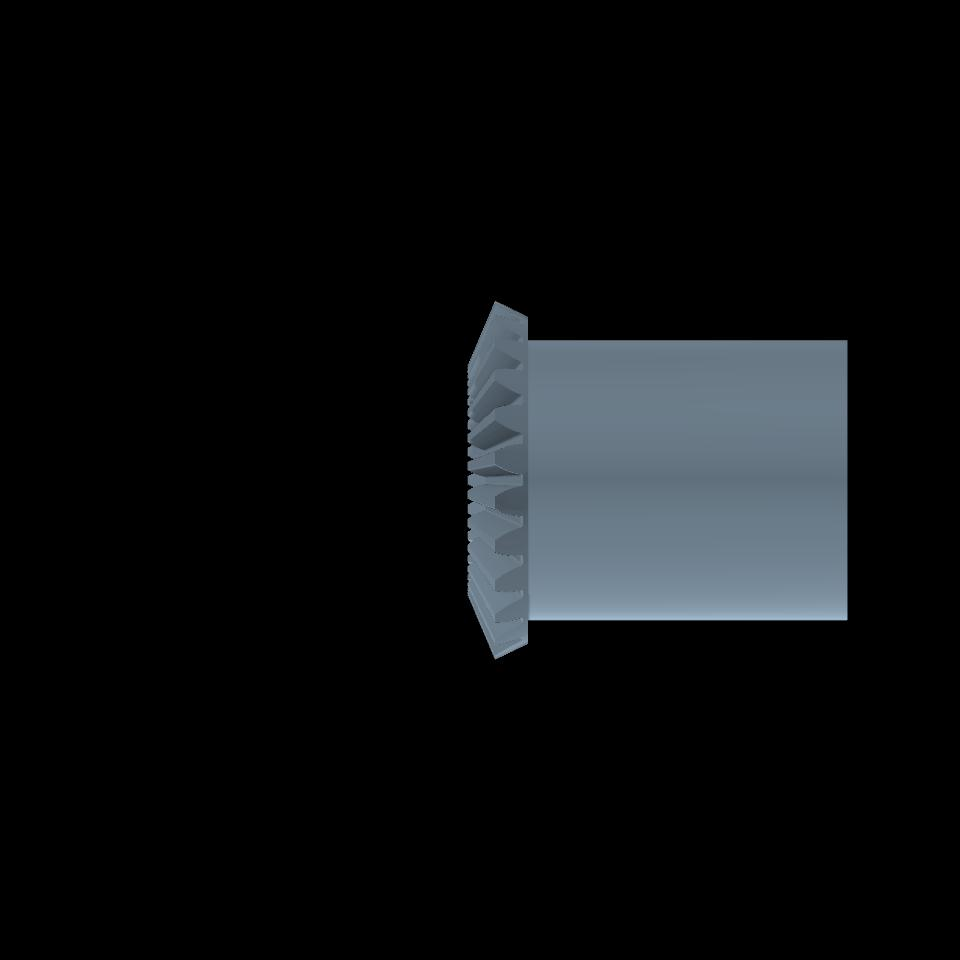Bevel: (466, 301, 528, 657)
